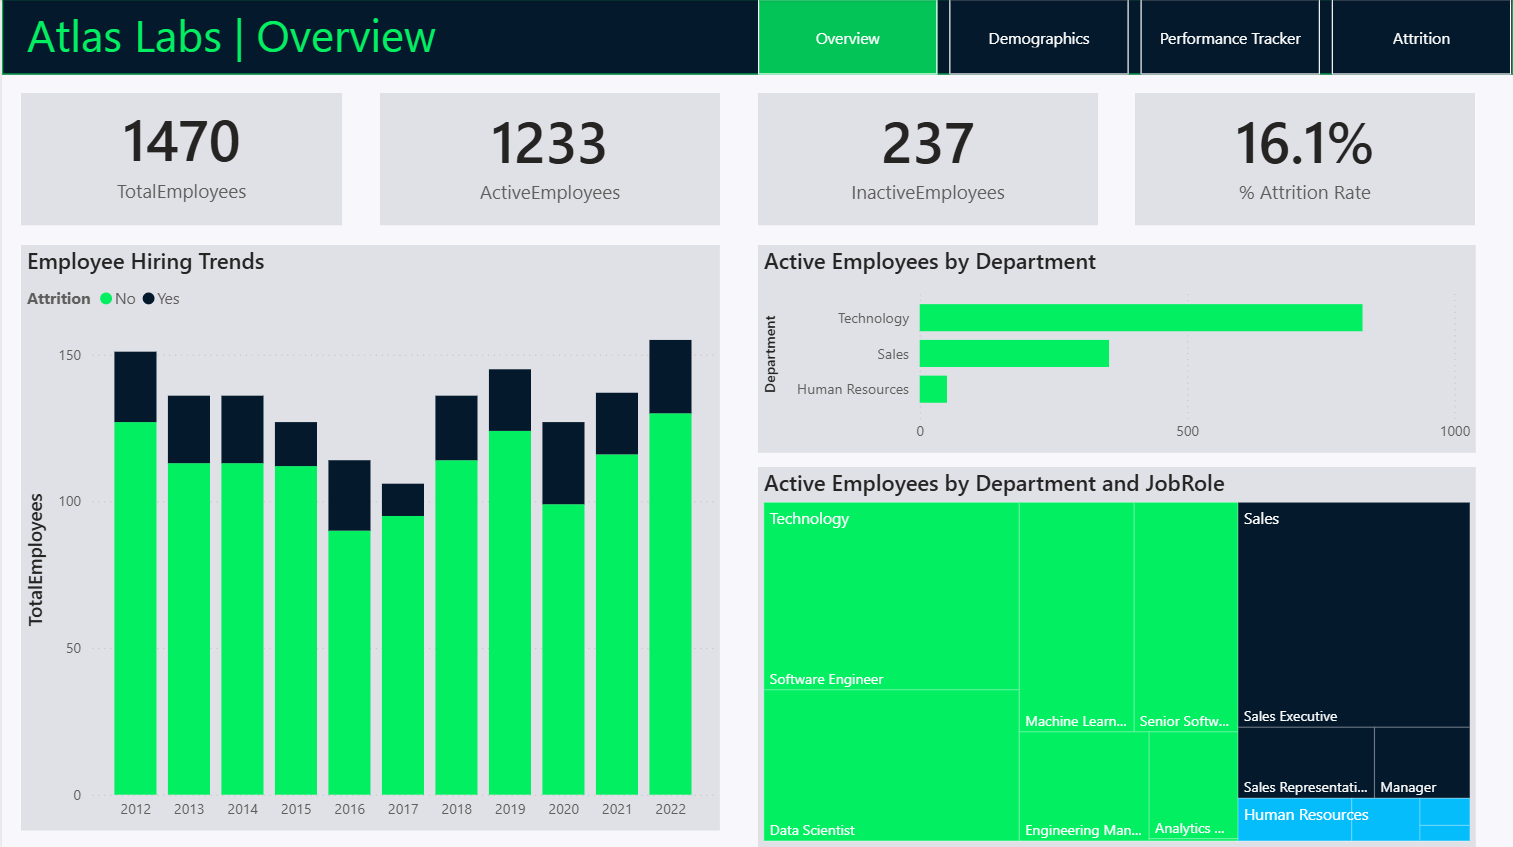

What the dashboard file says about the page in this screenshot:
{"tool":"powerbi","page":{"name":"Overview","canvas":[1280,720],"ordinal":0},"visuals":[{"type":"cardVisual","fields":{"Data":["_Measures.TotalEmployees"]},"box":[16,80,272.3,112],"z":0},{"type":"cardVisual","fields":{"Data":["_Measures.% Attrition Rate1"]},"box":[960,80,288,112],"z":1000},{"type":"clusteredBarChart","title":"Active Employees by Department","fields":{"Y":["_Measures.ActiveEmployees"],"Category":["Dim_Employee.Department"]},"box":[640,208,608,176],"z":2000},{"type":"treemap","title":"Active Employees by Department and JobRole","fields":{"Group":["Dim_Employee.Department"],"Details":["Dim_Employee.JobRole"],"Values":["_Measures.ActiveEmployees"]},"box":[640,396.8,608.1,321.7],"z":3000},{"type":"shape","box":[0,0,1280,64],"z":4000},{"type":"textbox","box":[16,0,448,64],"z":5000},{"type":"cardVisual","fields":{"Data":["_Measures.ActiveEmployees"]},"box":[320,80,288,112],"z":6000},{"type":"cardVisual","fields":{"Data":["_Measures.InactiveEmployeesDate"]},"box":[640,80,288,112],"z":7000},{"type":"columnChart","title":"Employee Hiring Trends","fields":{"Y":["_Measures.TotalEmployeesDate"],"Series":["Dim_Employee.Attrition"],"Category":["DimDate.Date.Variation.Date Hierarchy.Year","DimDate.Date.Variation.Date Hierarchy.Quarter","DimDate.Date.Variation.Date Hierarchy.Month","DimDate.Date.Variation.Date Hierarchy.Day"]},"box":[16,208,591.7,496],"z":8000},{"type":"pageNavigator","box":[640,0,640,64],"z":9000}]}

Visuals, with their boxes in screenshot pixels (x1, y1, x2, y2), scaled from the page's 1280x720 canvas onto the 1513x847 screenshot:
cardVisual - _Measures.TotalEmployees: [left=19, top=94, right=341, bottom=226]
cardVisual - _Measures.% Attrition Rate1: [left=1135, top=94, right=1475, bottom=226]
"Active Employees by Department" clusteredBarChart: [left=756, top=245, right=1475, bottom=452]
"Active Employees by Department and JobRole" treemap: [left=756, top=467, right=1475, bottom=845]
shape: [left=0, top=0, right=1512, bottom=75]
textbox: [left=19, top=0, right=548, bottom=75]
cardVisual - _Measures.ActiveEmployees: [left=378, top=94, right=719, bottom=226]
cardVisual - _Measures.InactiveEmployeesDate: [left=756, top=94, right=1097, bottom=226]
"Employee Hiring Trends" columnChart: [left=19, top=245, right=718, bottom=828]
pageNavigator: [left=756, top=0, right=1512, bottom=75]
